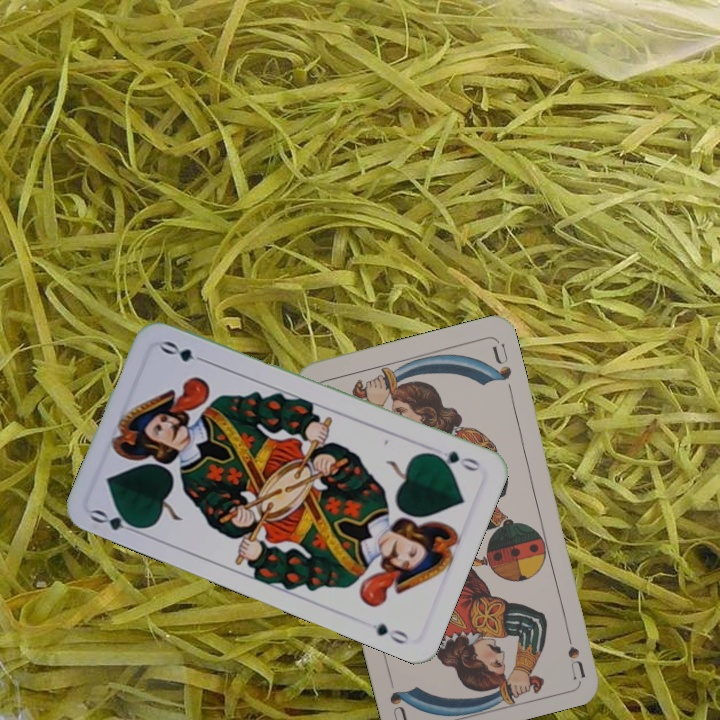GO: (86, 505, 146, 538), (425, 443, 483, 474)
SU: (560, 621, 587, 680)
